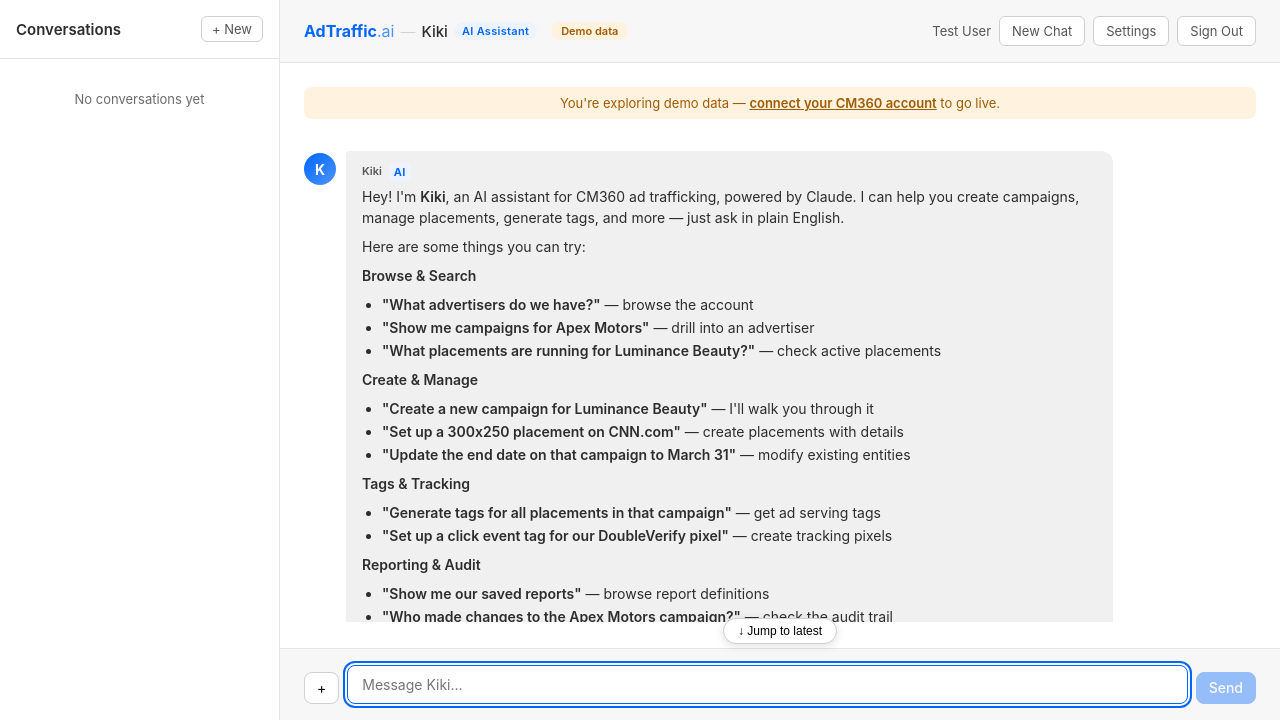
Test case: Chat › sends message on Send button click
The width and height of the screenshot is (1280, 720).
Type "Hello Kiki" into the text box with placeholder "Message Kiki...". click: x=768, y=684
box: [347, 665, 1188, 704]
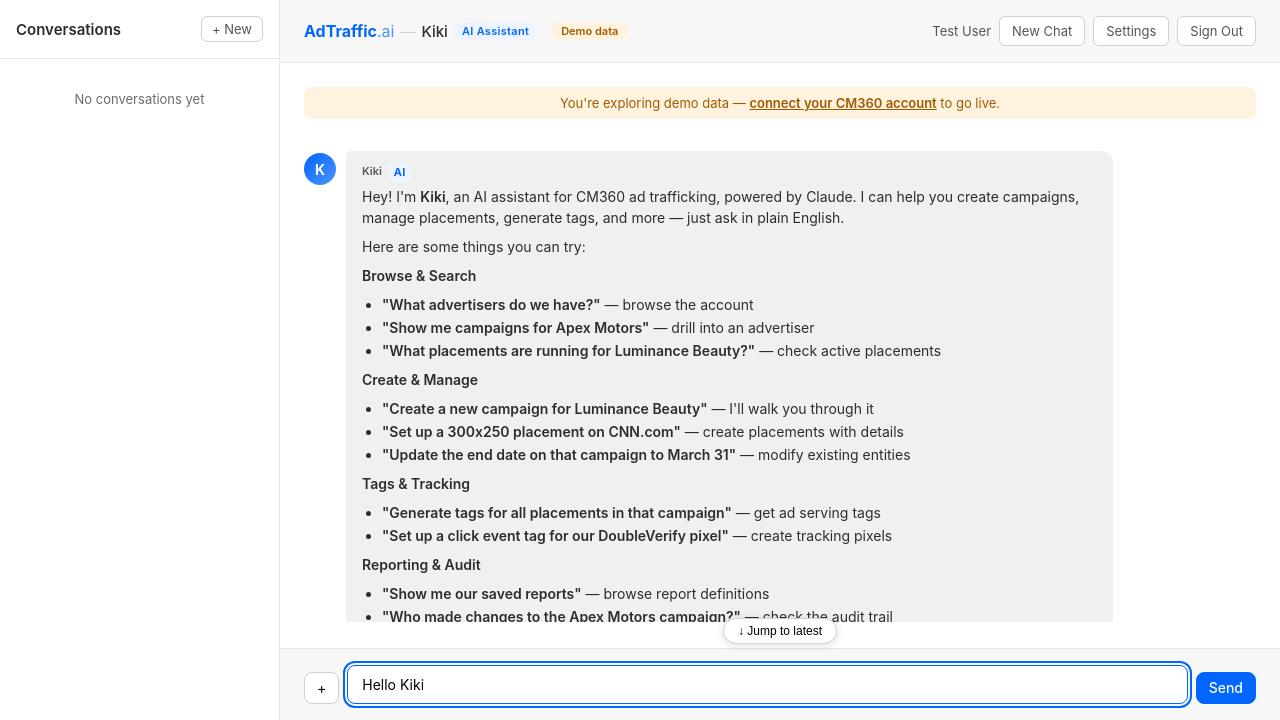
Click the button "Send". click: x=1226, y=688
box: [1196, 672, 1256, 704]
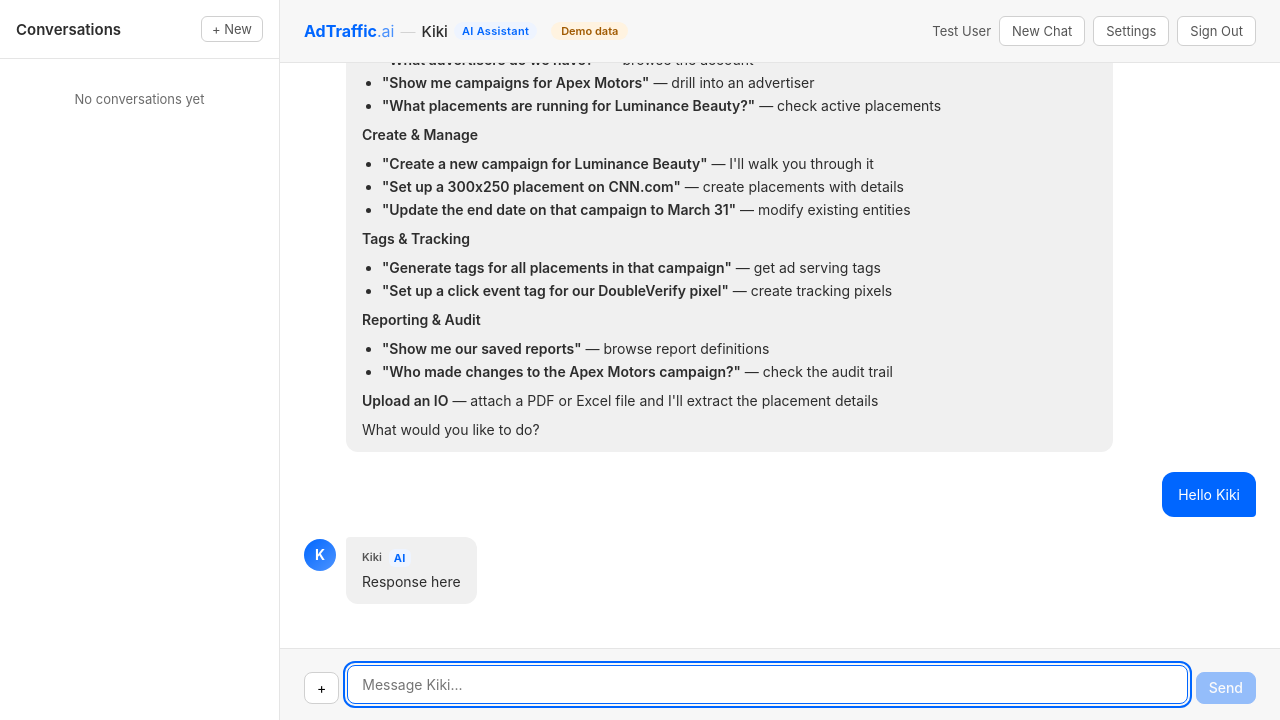
Result: the text "Hello Kiki" is shown at [1178, 484, 1240, 504]
Result: the text "Response here" is shown at [362, 571, 461, 592]
